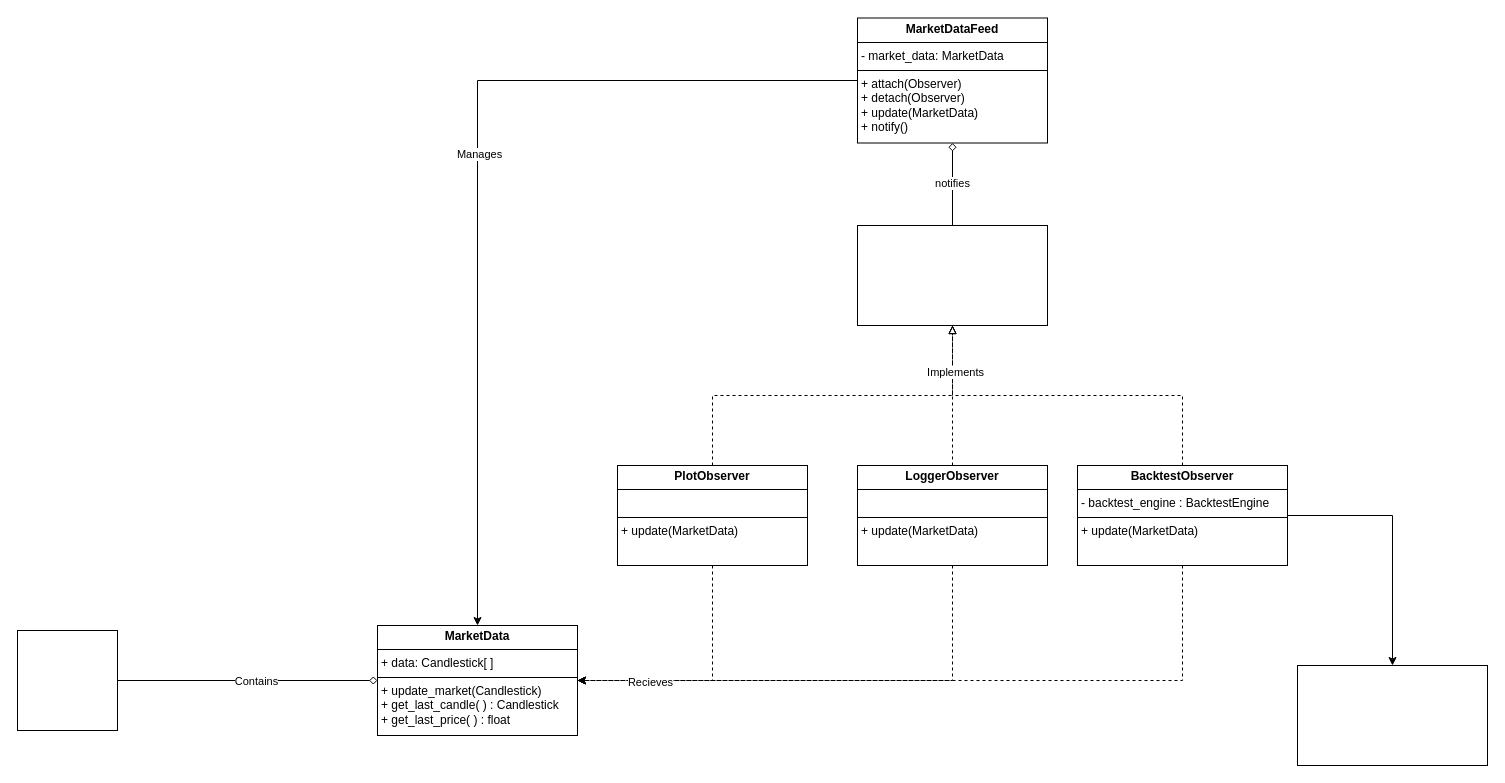
This 1505x783 diagram has some shape labels left out. Each missing label, with the centre of its shape:
<<Interface>> Observer + update(MarketData): pixel 952 275
BacktestEngine: pixel 1392 715
Candlestick + open: float[ ] + high: float[ ] + low: float[ ] + close: float[ ]: pixel 67 680
